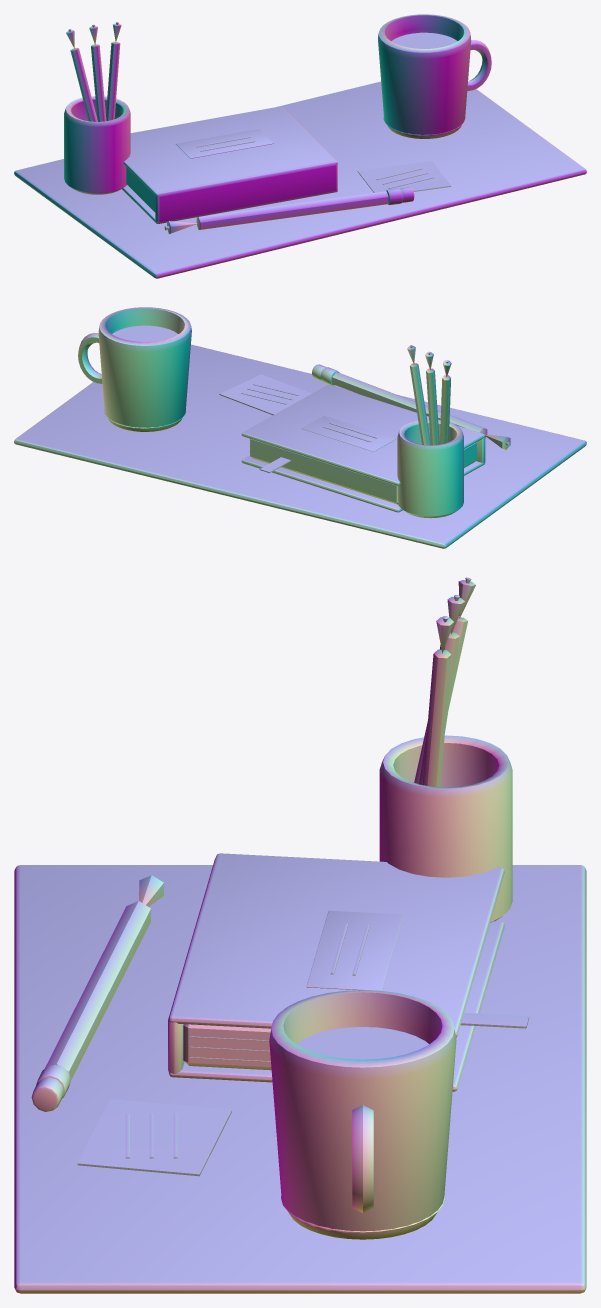
Rendered from env_dress_study.glb.
3 renders of one model, top to bottom at view 1: azimuth 30°, elevation 25°; view 2: azimuth 150°, elevation 25°; view 3: azimuth 270°, elevation 25°, orthographic. The views are drawn at different scales.
Parts seen in each view (by area): view 1: env_dress_study_mesh; view 2: env_dress_study_mesh; view 3: env_dress_study_mesh.
Boxes of the visible parts, left/top/right/bottom form: env_dress_study_mesh: left=14, top=14, right=586, bottom=278; env_dress_study_mesh: left=14, top=307, right=586, bottom=548; env_dress_study_mesh: left=14, top=577, right=586, bottom=1293.
Size of the model in its own units: 0.96 by 0.3451 by 0.55.
